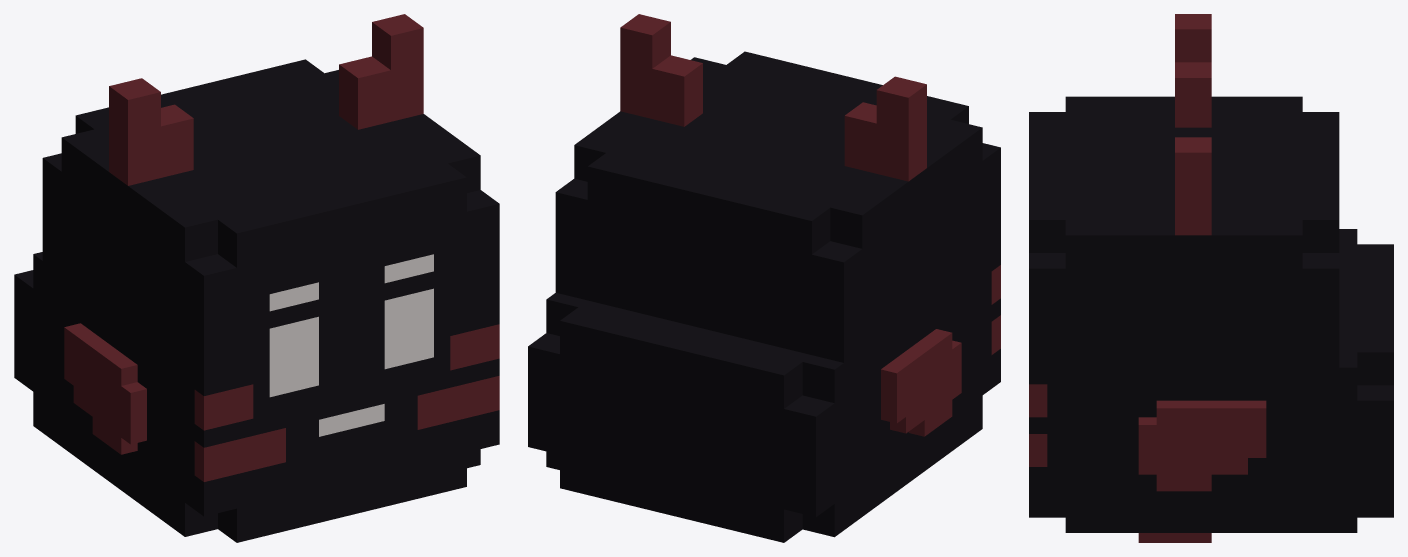
Rendered from lucifer.obj.
The picture shows the model from 3 angles, left to right: view 1: azimuth 30°, elevation 25°; view 2: azimuth 150°, elevation 25°; view 3: azimuth 270°, elevation 25°; orthographic projection. The views are drawn at different scales.
Bounding box in the file's own units: 2 × 2.5 × 2.
1 material, 1 textured.
